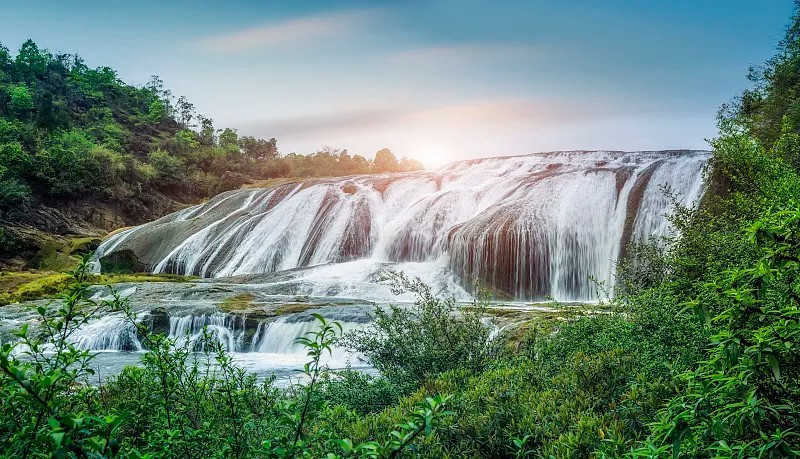Huangguoshu: (128, 149, 711, 302)
